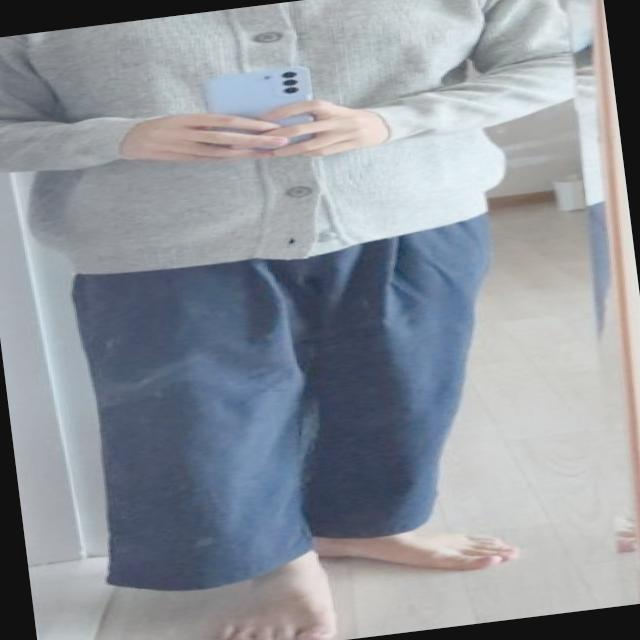cottonpants: (66, 207, 534, 598)
denimpants: (0, 0, 590, 293)
